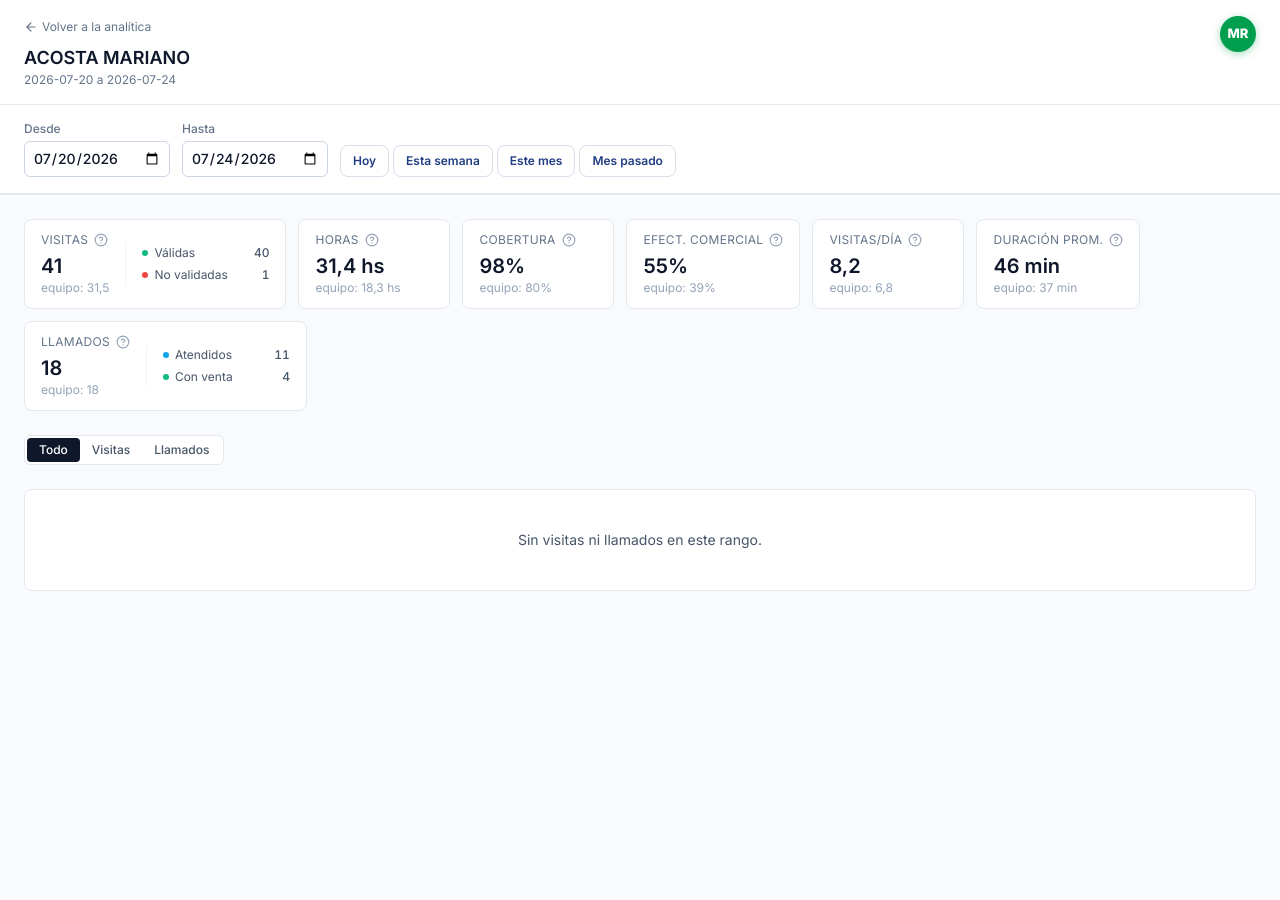
la ayuda de Visitas cita el criterio real que manda el backend
The width and height of the screenshot is (1280, 900).
Hover over the button named "Qué significa Visitas" at x=101, y=240, box [94, 233, 108, 247]
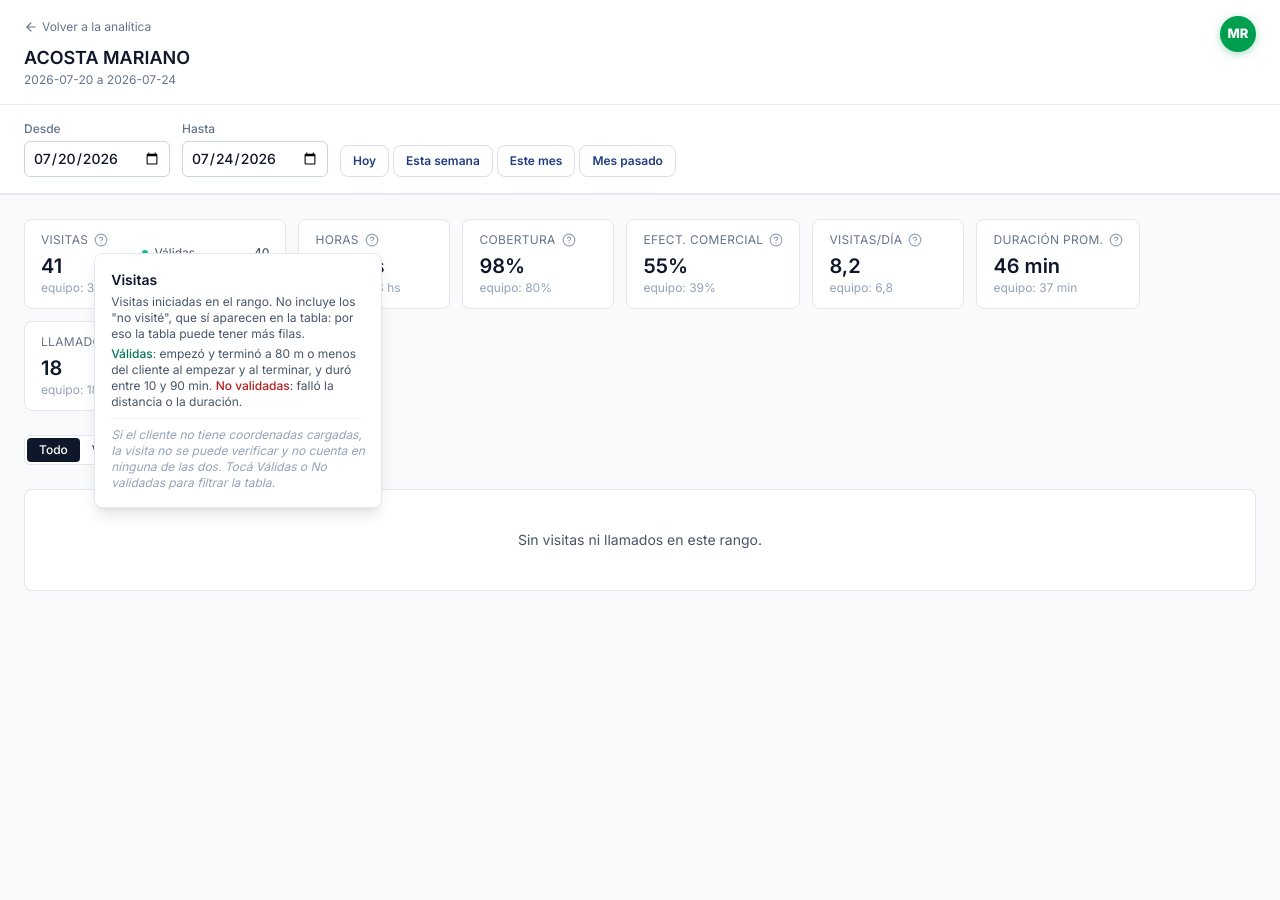
Expected: the dialog shows "a 80 m o menos del cliente", [111, 346, 356, 393]
Expected: the dialog shows "duró entre 10 y 90 min", [111, 346, 356, 393]
